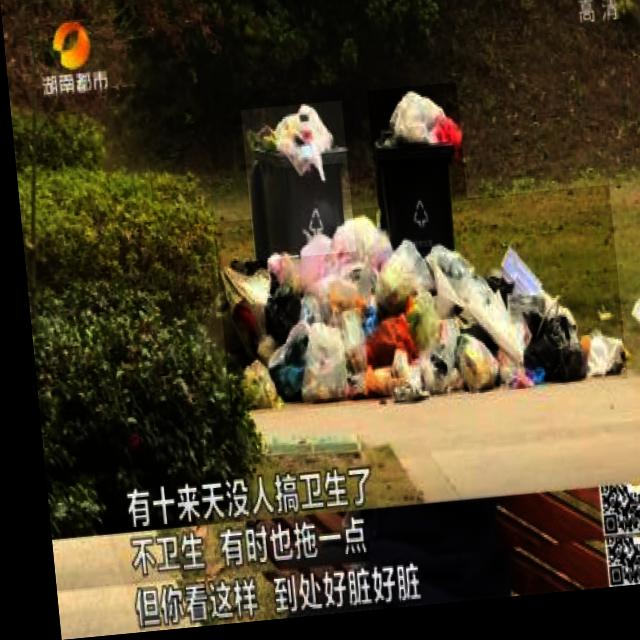garbage: (209, 197, 619, 421)
overflow: (238, 107, 351, 266), (364, 91, 466, 265)
